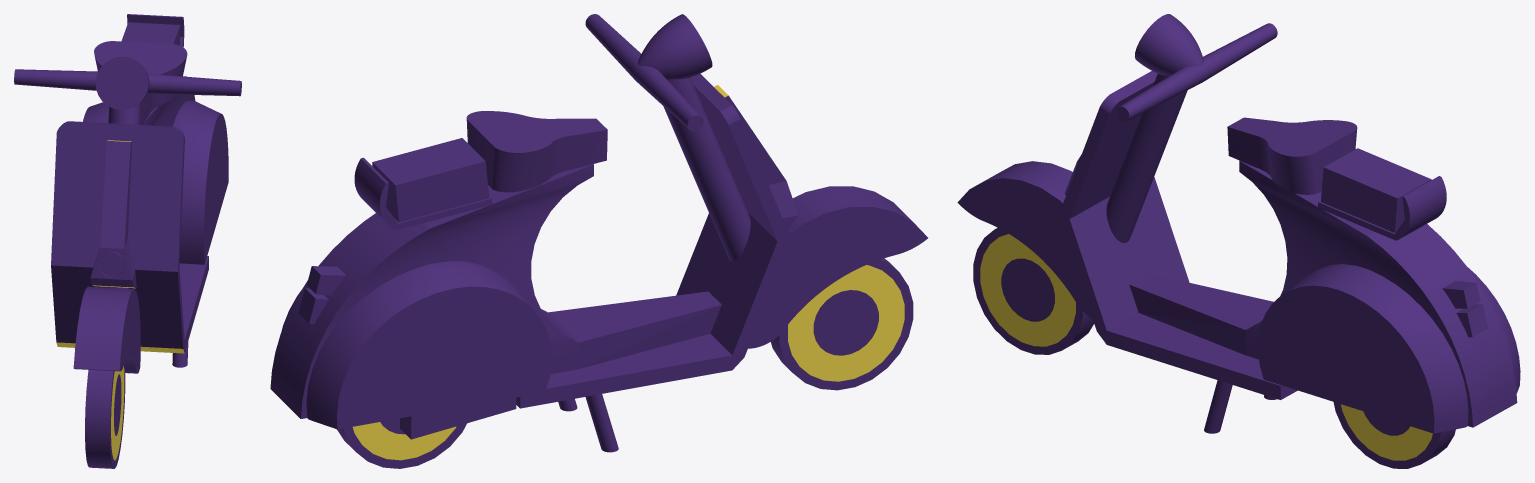
File: motoglup.glb
3 renders of one model, left to right at view 1: azimuth 30°, elevation 25°; view 2: azimuth 150°, elevation 25°; view 3: azimuth 270°, elevation 25°, orthographic. The views are drawn at different scales.
Parts seen in each view (by area): view 1: 3d-model; view 2: 3d-model; view 3: 3d-model.
Boxes of the visible parts, box(x1,y1,x2,y2) form: 3d-model: box(14, 14, 241, 468); 3d-model: box(270, 14, 927, 468); 3d-model: box(957, 14, 1520, 468).
Size of the model in its own units: 2.26 by 2.06 by 2.82.
